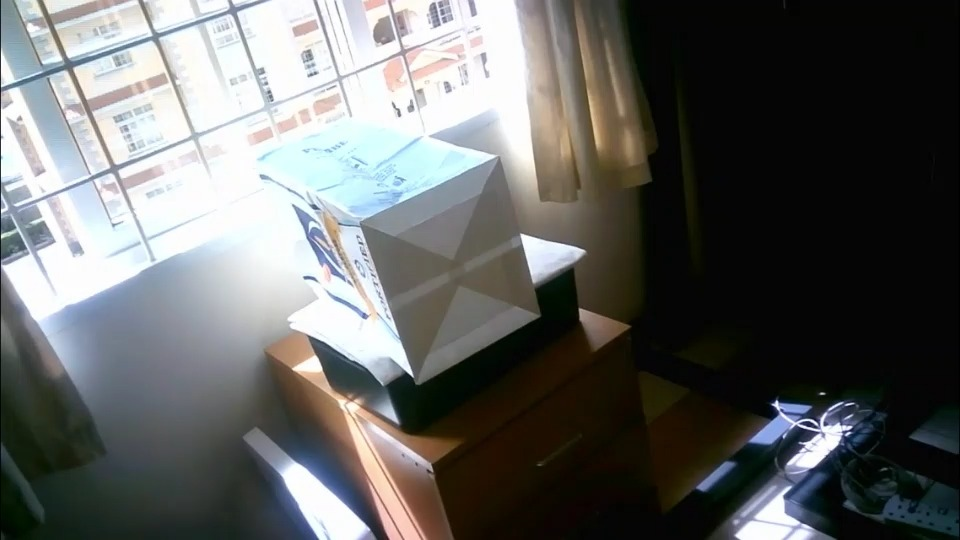wheat_flour_blue_label: (257, 116, 539, 385)
